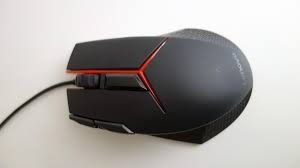mouse: (60, 26, 256, 143)
